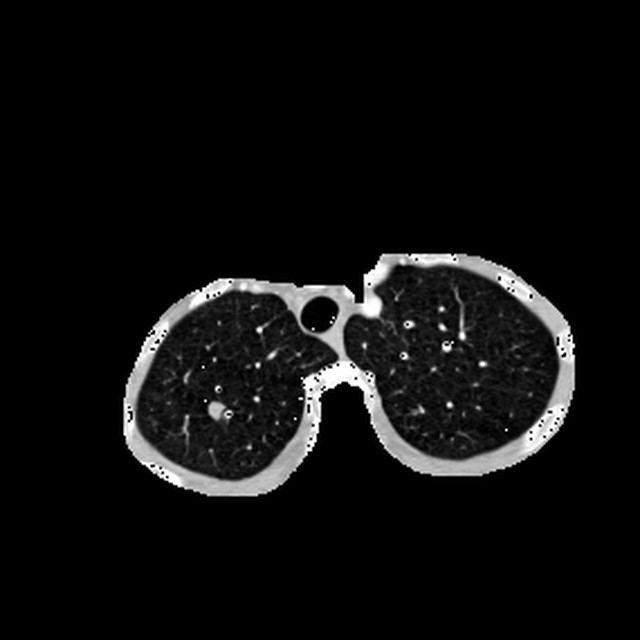PN: (207, 402, 225, 420)
